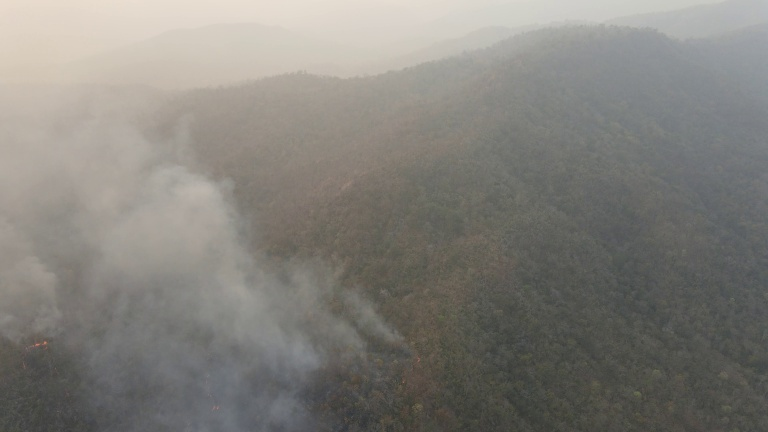fire: (389, 352, 423, 402), (18, 336, 56, 379)
smoke: (1, 42, 419, 432)
